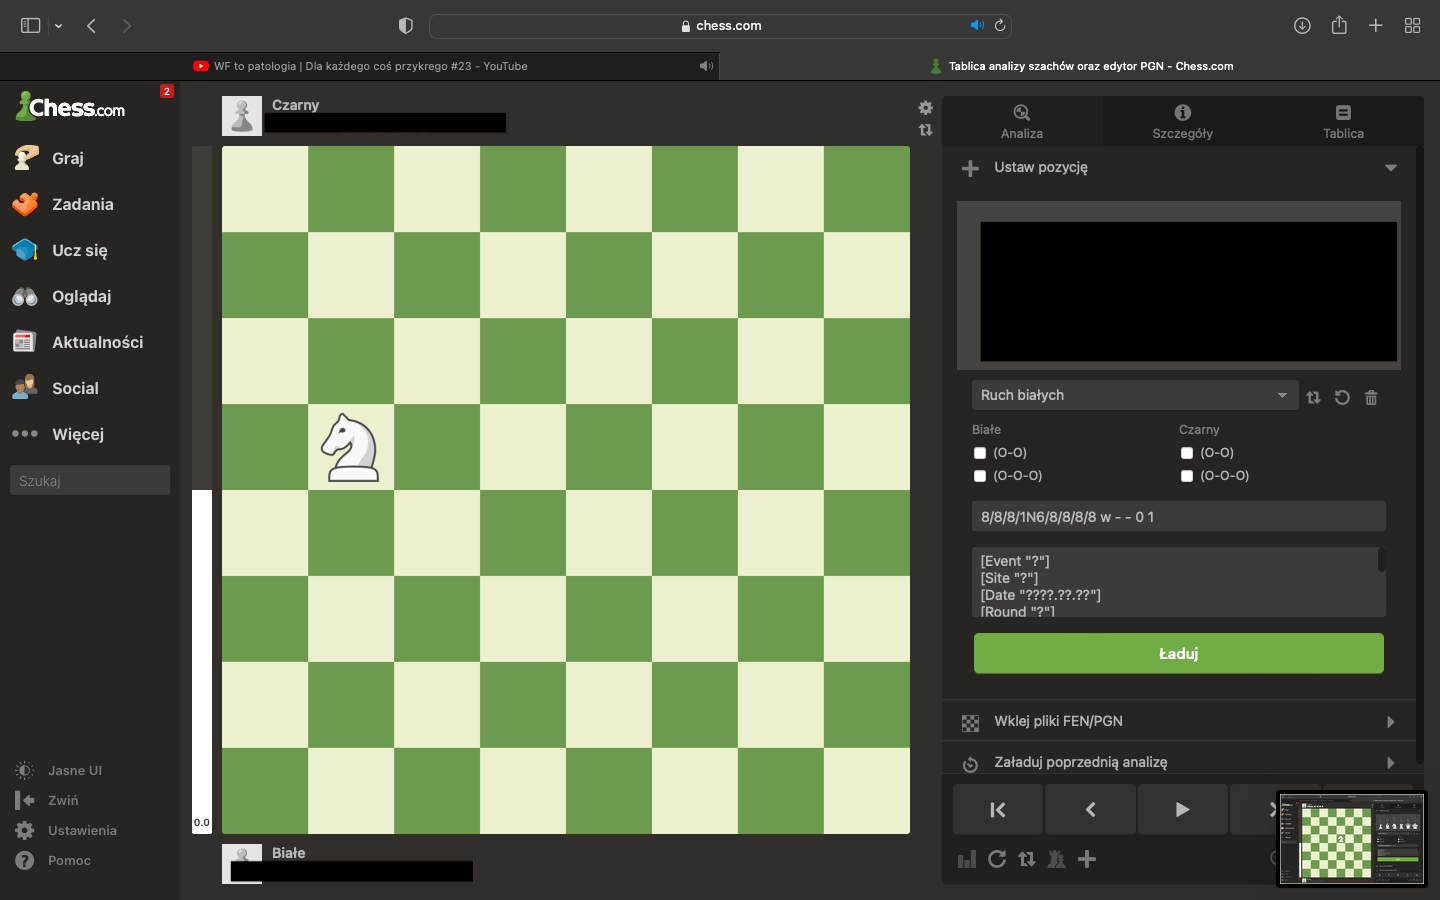white_knigth: (320, 412, 380, 483)
